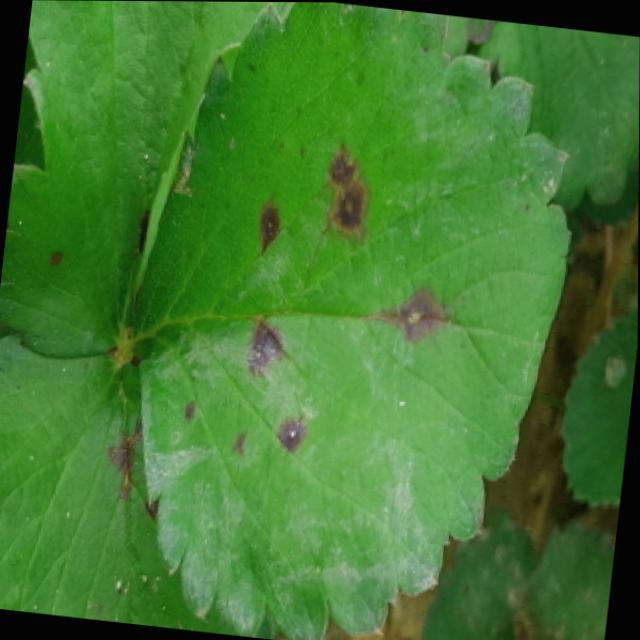Leaf Spot: (121, 2, 572, 640), (0, 0, 265, 360), (0, 332, 248, 636), (513, 520, 616, 640)
